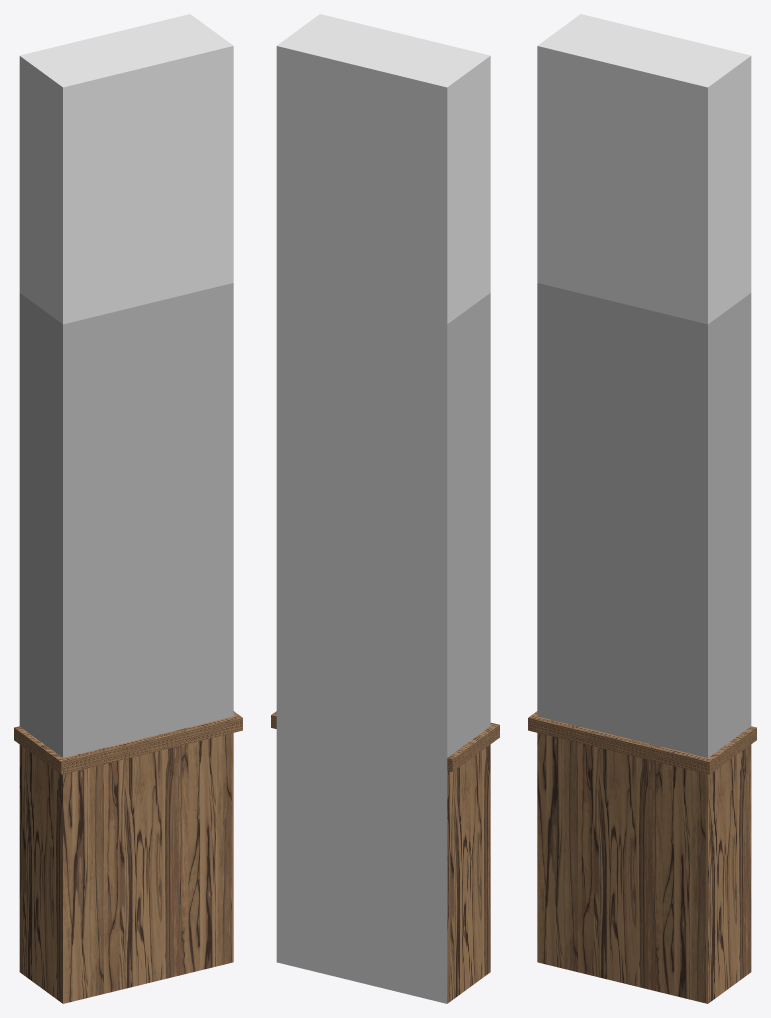
File: Column.FBX
The picture shows the model from 3 angles, left to right: view 1: azimuth 30°, elevation 25°; view 2: azimuth 150°, elevation 25°; view 3: azimuth 330°, elevation 25°; orthographic projection.
Parts seen in each view (by area): view 1: Column; view 2: Column; view 3: Column.
Part boxes in pixels (x1,y1,x2,y2): Column: (14, 14, 242, 1003); Column: (271, 14, 499, 1003); Column: (528, 14, 756, 1003).
Bounding box in the file's own units: 76.11 × 367 × 34.32.
